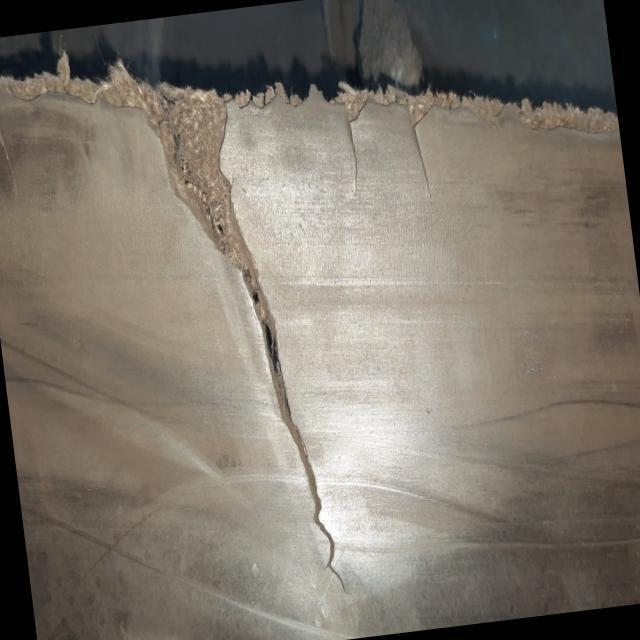Tear: (139, 104, 355, 599), (406, 106, 442, 199), (340, 97, 376, 183)
